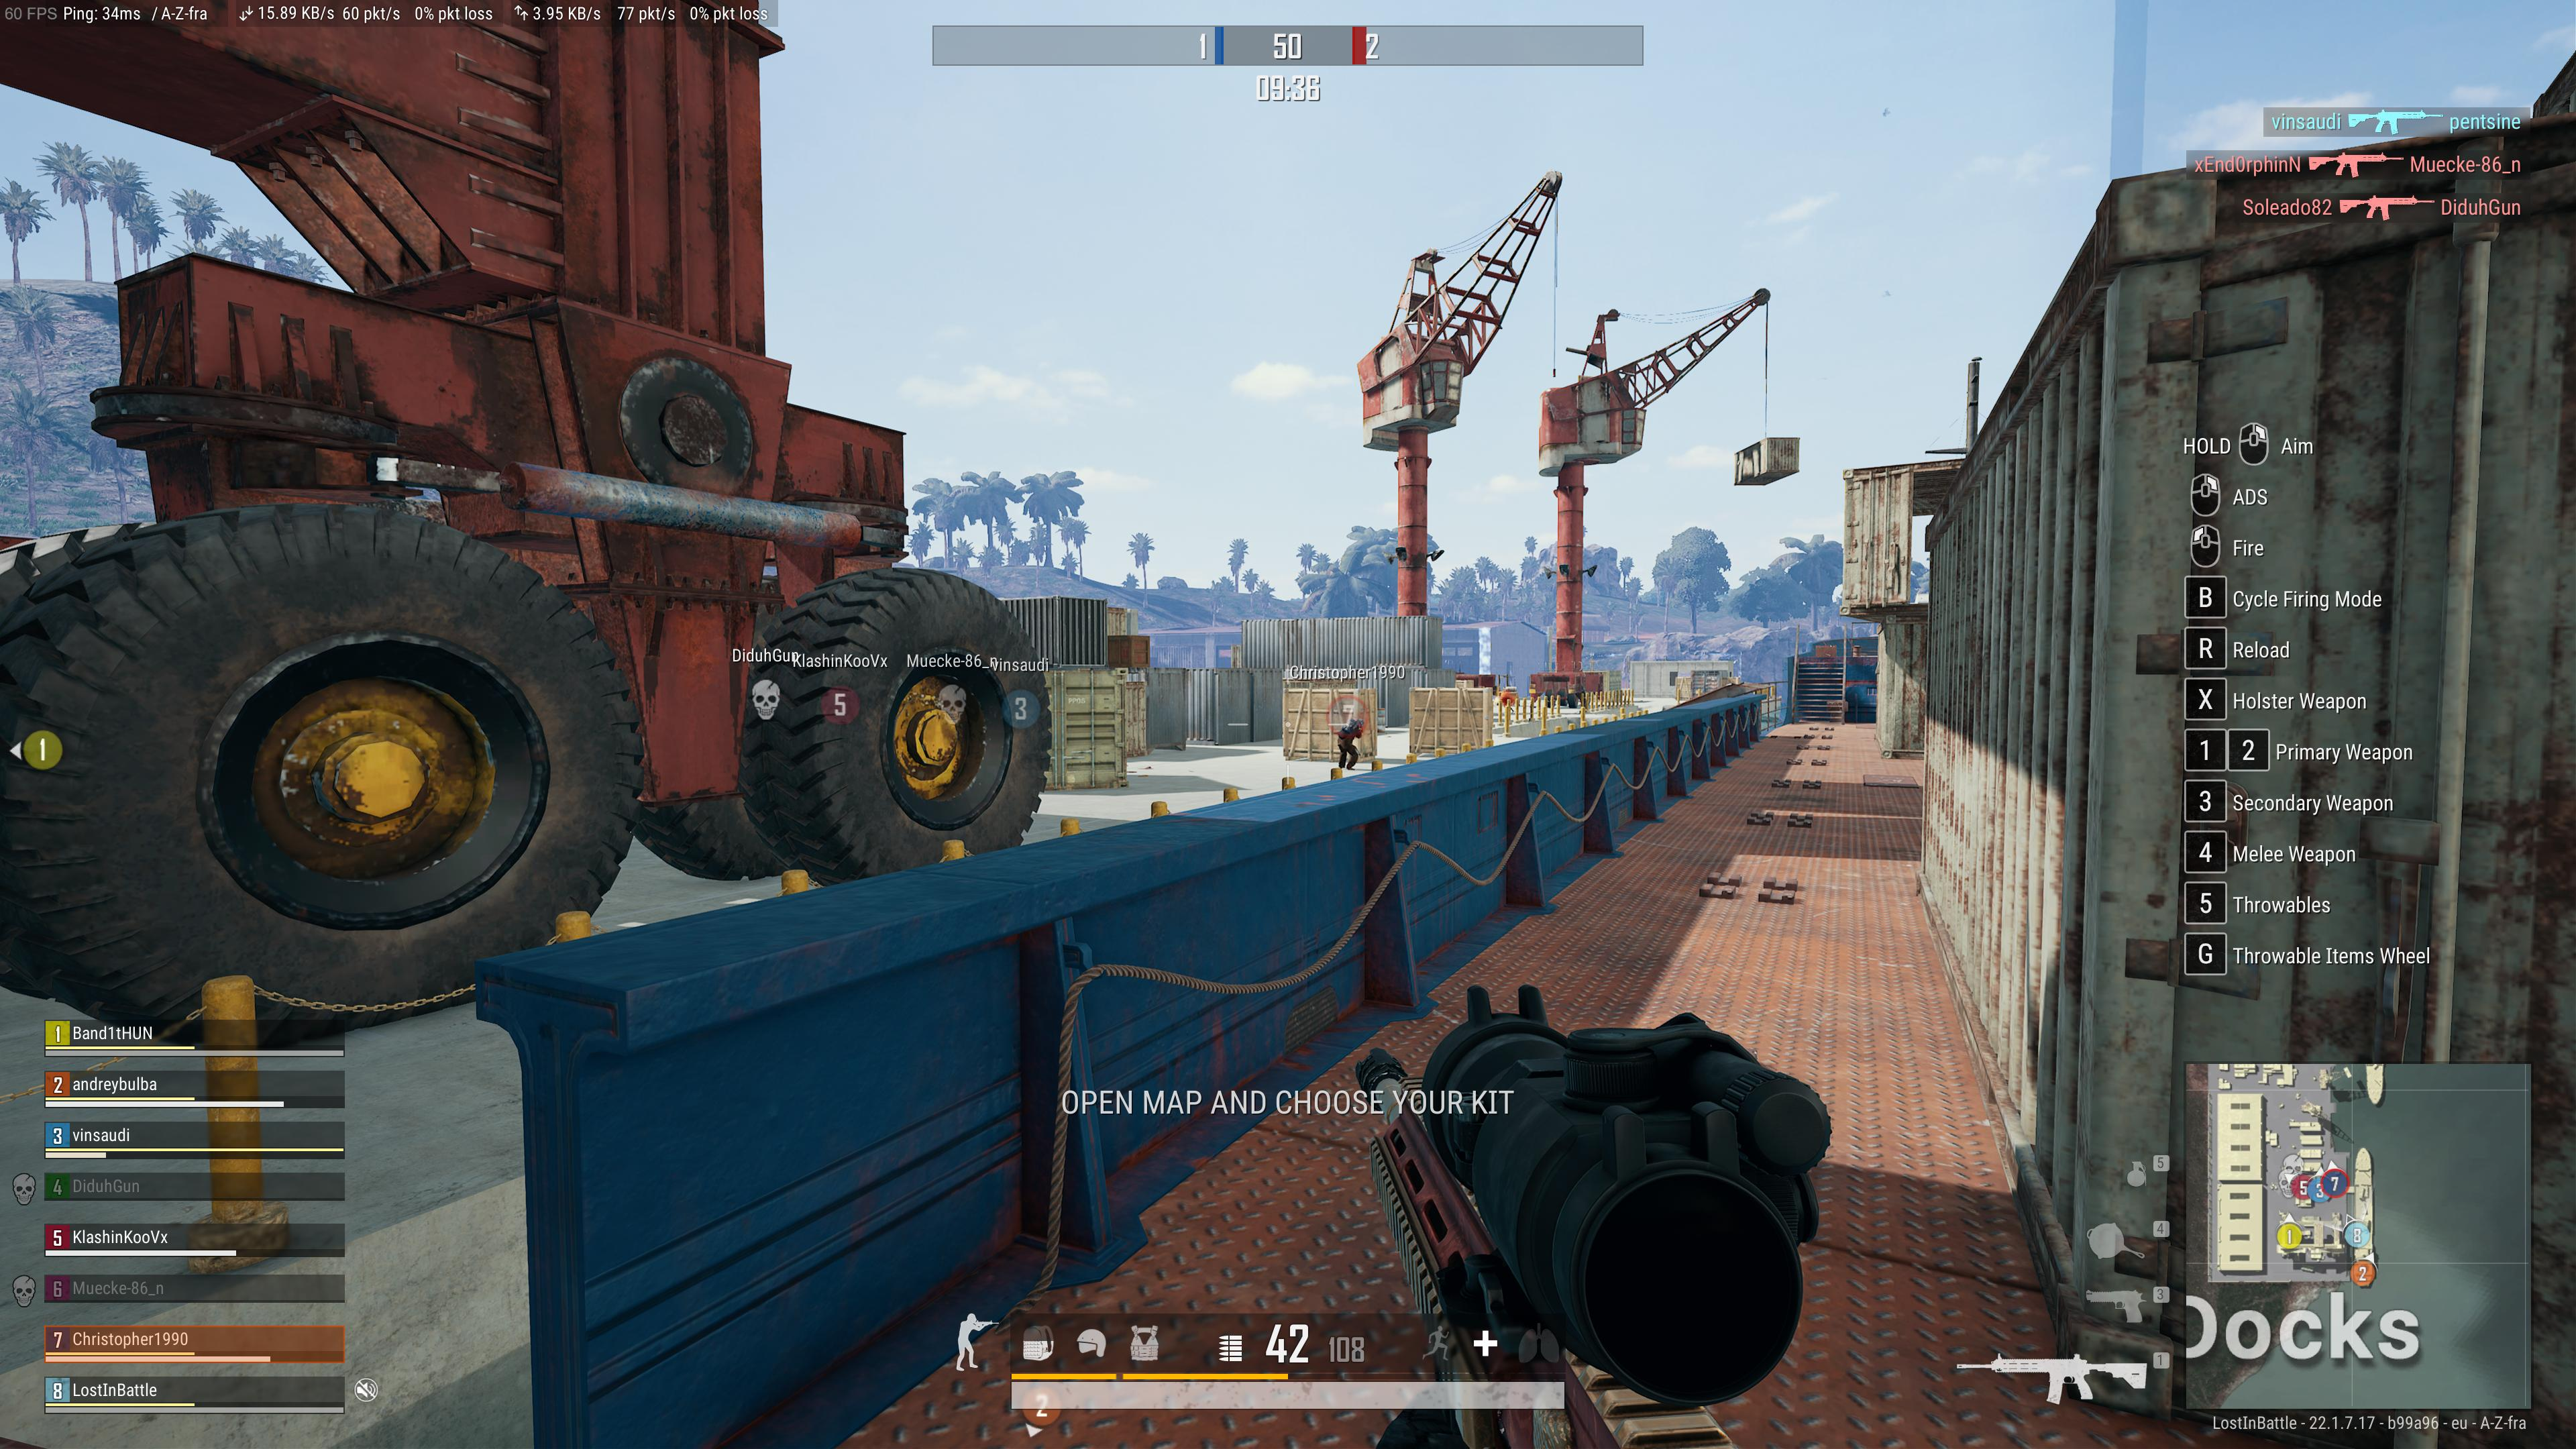friendly: (1332, 711, 1364, 773)
